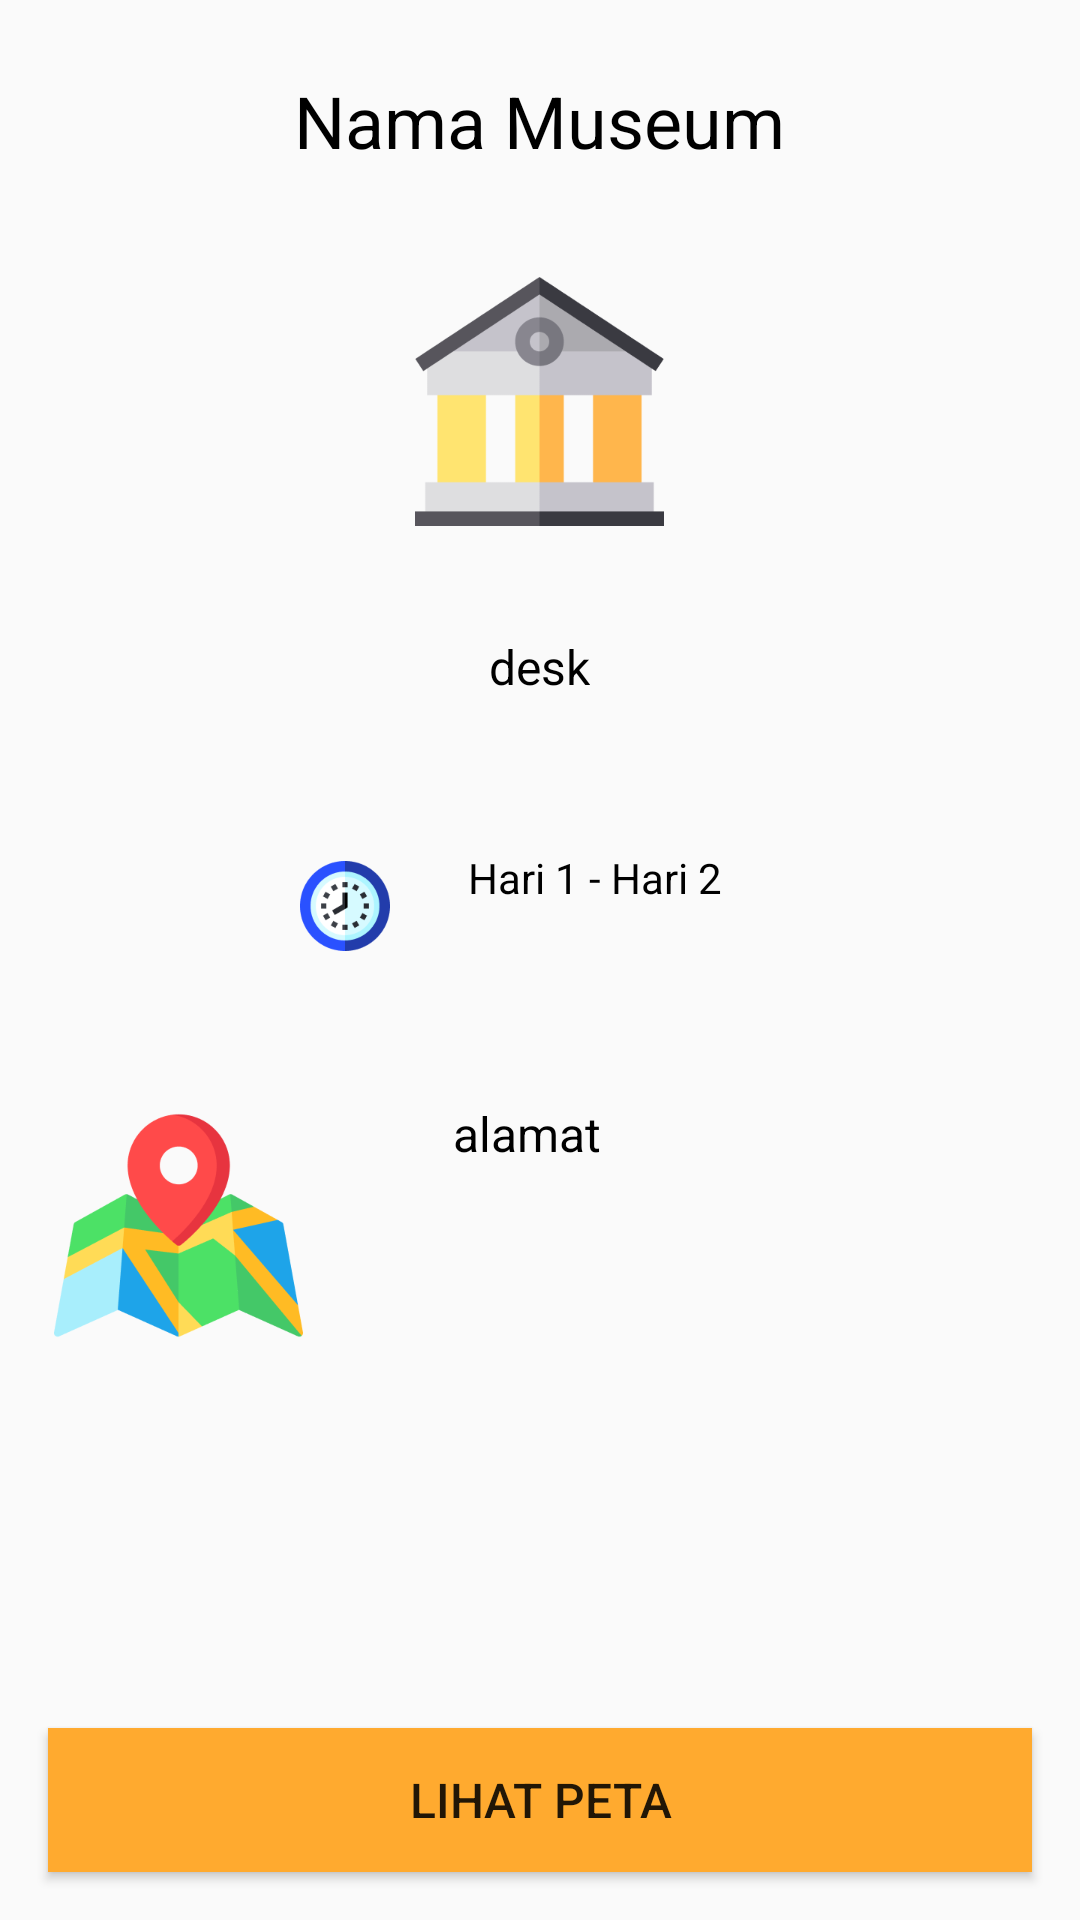

Screen size 1080×1920. Icon name, then its center in pixels as (x=x, y=y):
clock: (x=345, y=906)
peta: (x=178, y=1225)
